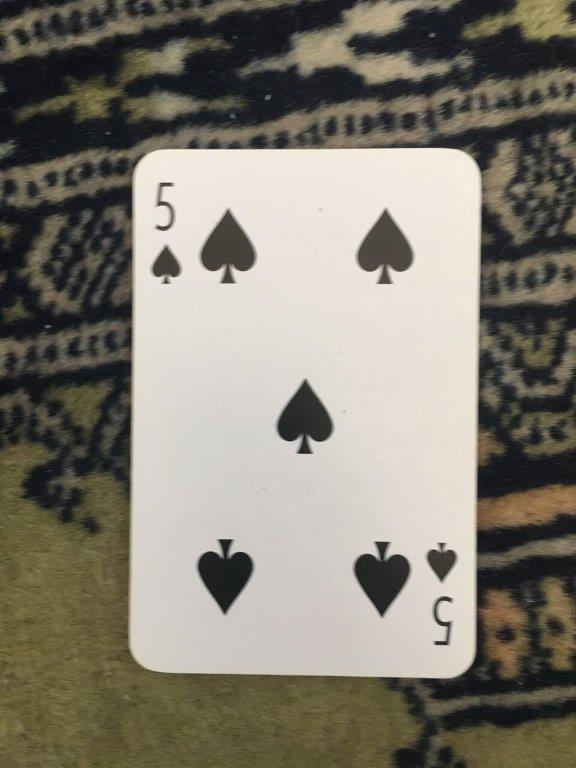5S: (123, 144, 485, 683)
